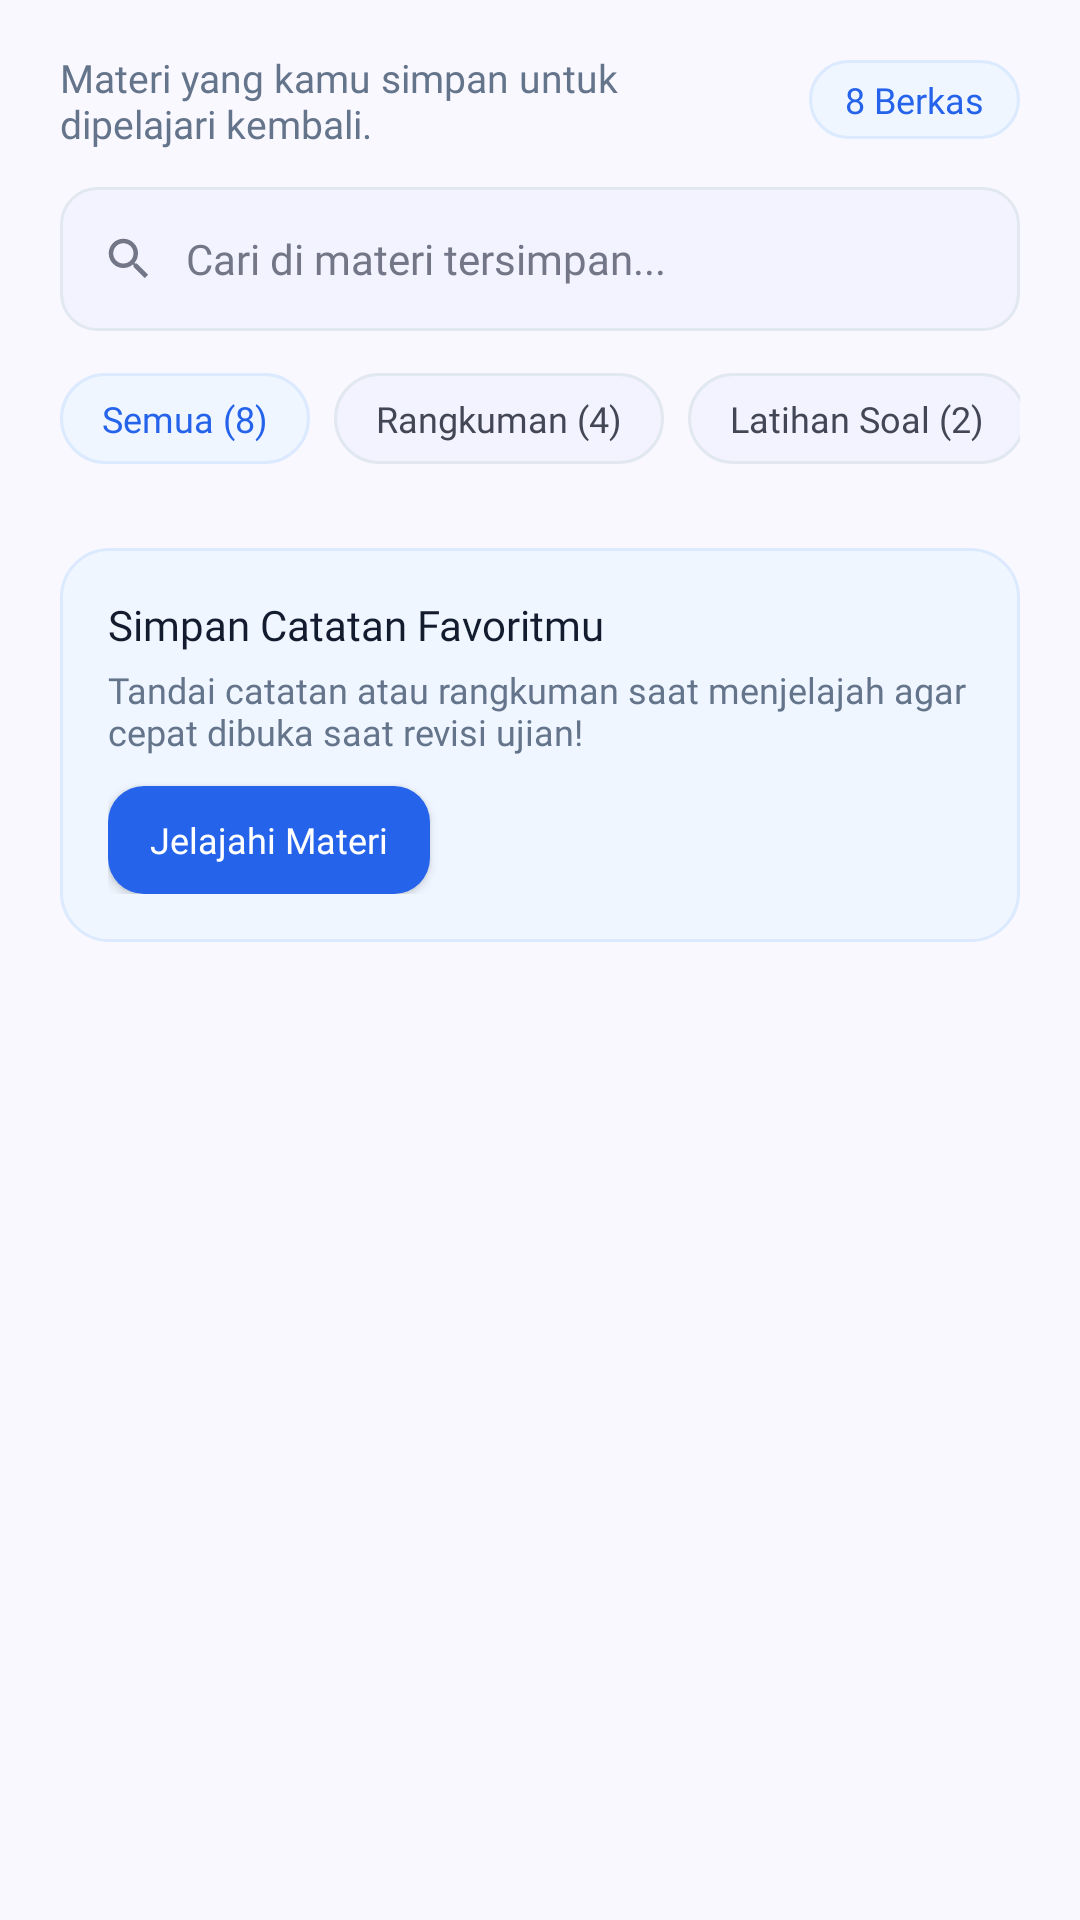

Named icons in this screenshot (1080x1920) and their bounding boxes, bbox(x1, y1, x2, y2):
dushare search: bbox(108, 238, 148, 278)
